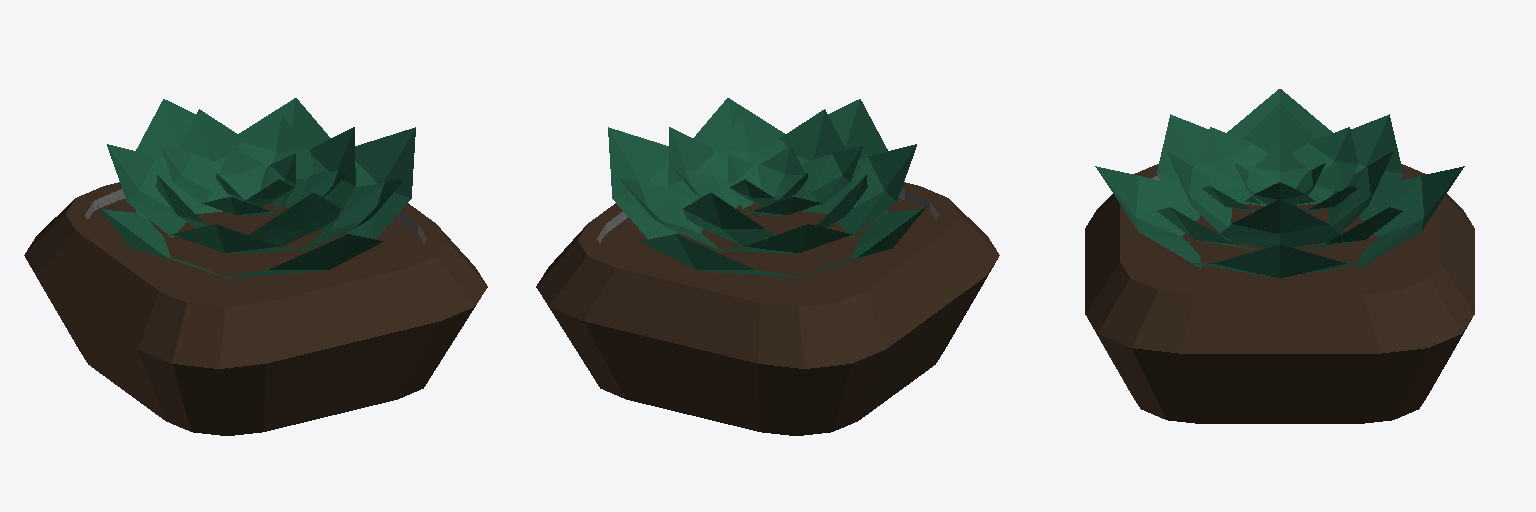
File: planta1.obj
3 renders of one model, left to right at view 1: azimuth 30°, elevation 25°; view 2: azimuth 150°, elevation 25°; view 3: azimuth 270°, elevation 25°, orthographic.
Parts seen in each view (by area): view 1: Mesh; view 2: Mesh; view 3: Mesh.
Boxes of the visible parts, x1,y1,x2,y2 form: Mesh: [24, 98, 487, 435]; Mesh: [536, 98, 999, 435]; Mesh: [1085, 89, 1474, 423].
Size of the model in its own units: 3.99 by 2.38 by 3.99.